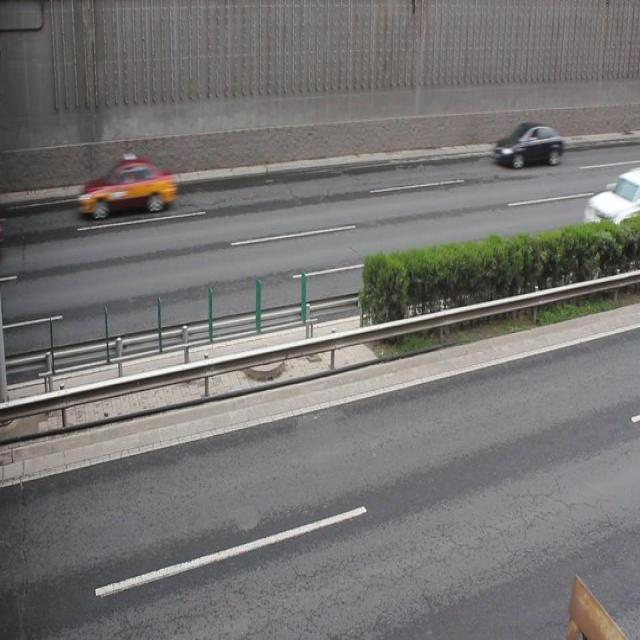car: (76, 155, 177, 220), (580, 168, 640, 246), (493, 117, 563, 167)
